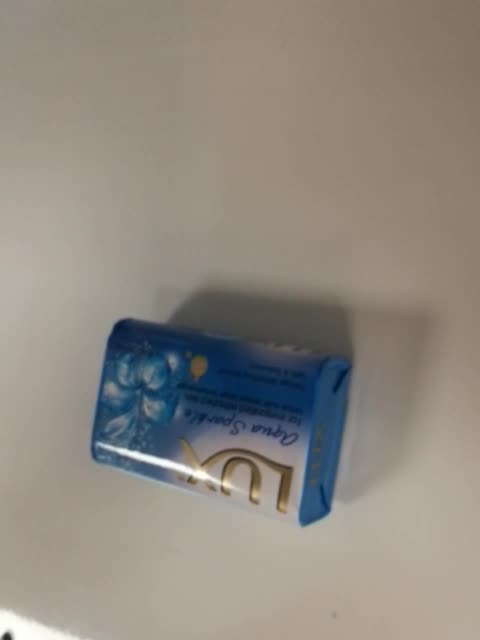soap: (89, 316, 353, 529)
